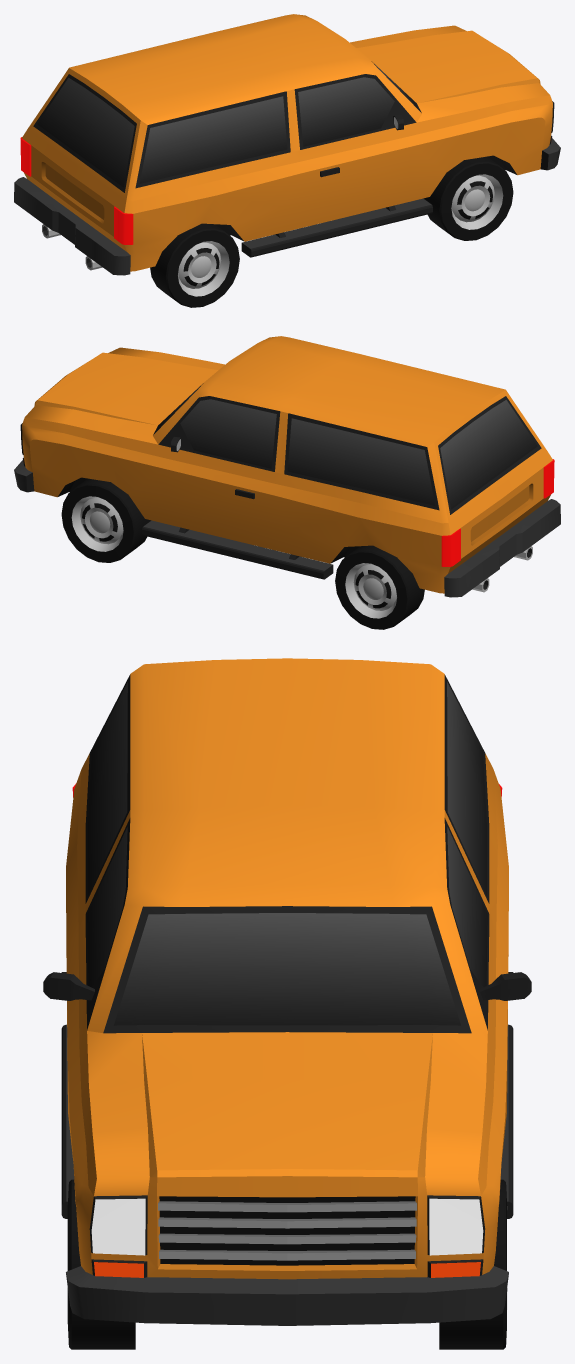
The model's file is Car_036.glb.
The picture shows the model from 3 angles, top to bottom: view 1: azimuth 30°, elevation 25°; view 2: azimuth 150°, elevation 25°; view 3: azimuth 270°, elevation 25°; orthographic projection. The views are drawn at different scales.
Visible parts, largest first — view 1: Car_036, wheel_3_Car_036_Wheel_2R, wheel_1_Car_036_Wheel_1R; view 2: Car_036, wheel_2_Car_036_Wheel_2L, wheel_0_Car_036_Wheel_1L; view 3: Car_036, wheel_1_Car_036_Wheel_1R, wheel_0_Car_036_Wheel_1L.
Boxes of the visible parts, <box> form: Car_036: <box>14,14,560,275</box>; wheel_3_Car_036_Wheel_2R: <box>150,223,239,307</box>; wheel_1_Car_036_Wheel_1R: <box>423,156,513,240</box>; Car_036: <box>14,336,560,597</box>; wheel_2_Car_036_Wheel_2L: <box>335,545,424,629</box>; wheel_0_Car_036_Wheel_1L: <box>61,478,151,562</box>; Car_036: <box>43,658,531,1325</box>; wheel_1_Car_036_Wheel_1R: <box>67,1179,135,1349</box>; wheel_0_Car_036_Wheel_1L: <box>439,1179,507,1349</box>.
Size of the model in its own units: 4.42 by 1.75 by 2.07.
2 materials, 2 textured.
